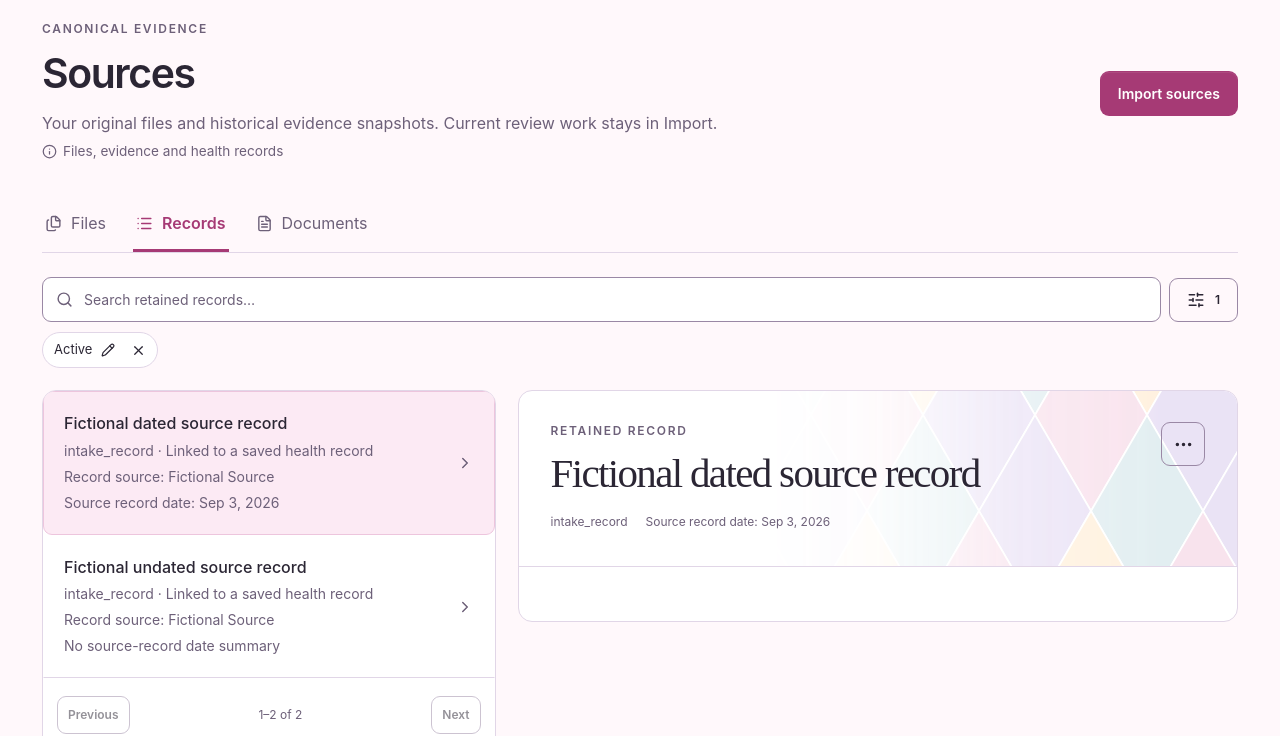
Test: keeps a present source-record date scoped in the records list and detail
Expected: the 1st text "Source record date: Sep 3, 2026" is shown, [64, 494, 280, 511]
Expected: the text "No source-record date summary" is shown, [64, 637, 280, 654]
Click the heading "Files, evidence and health records" at (163,151), box [42, 143, 283, 159]
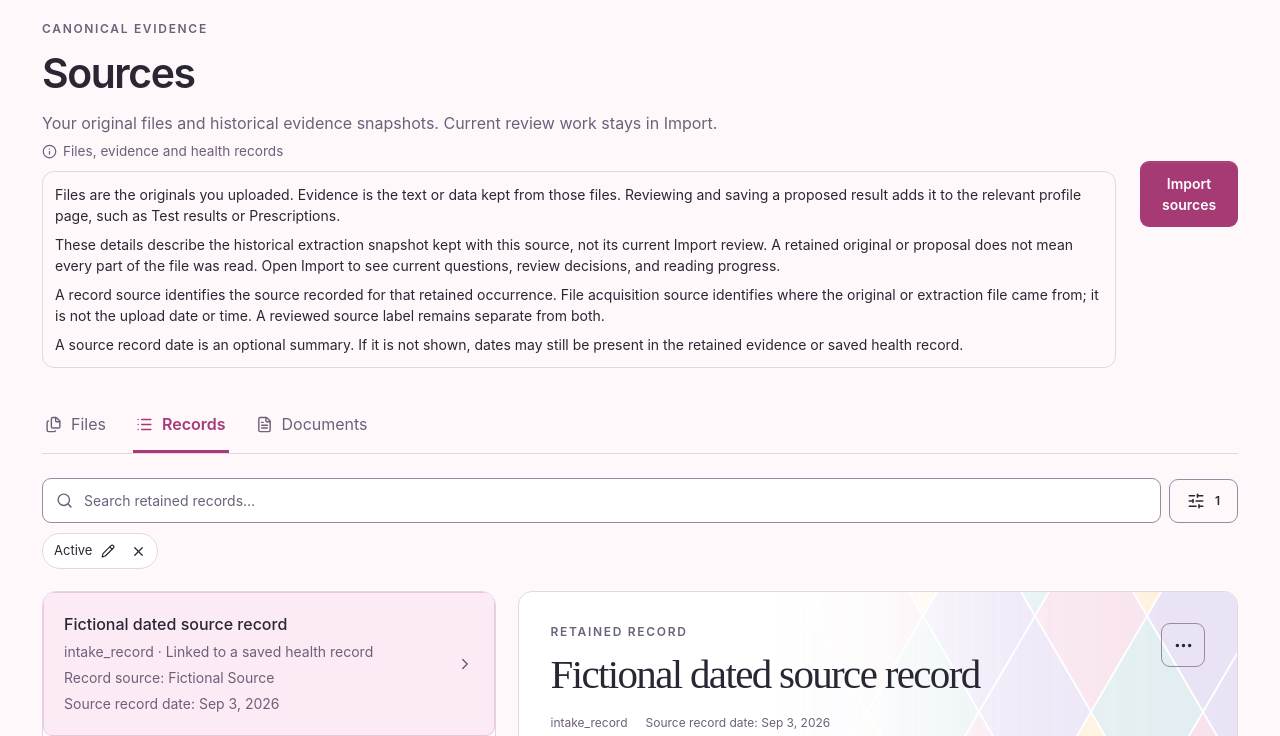
Now the text "source record date is an optional summary" is shown, box [55, 336, 963, 353]
